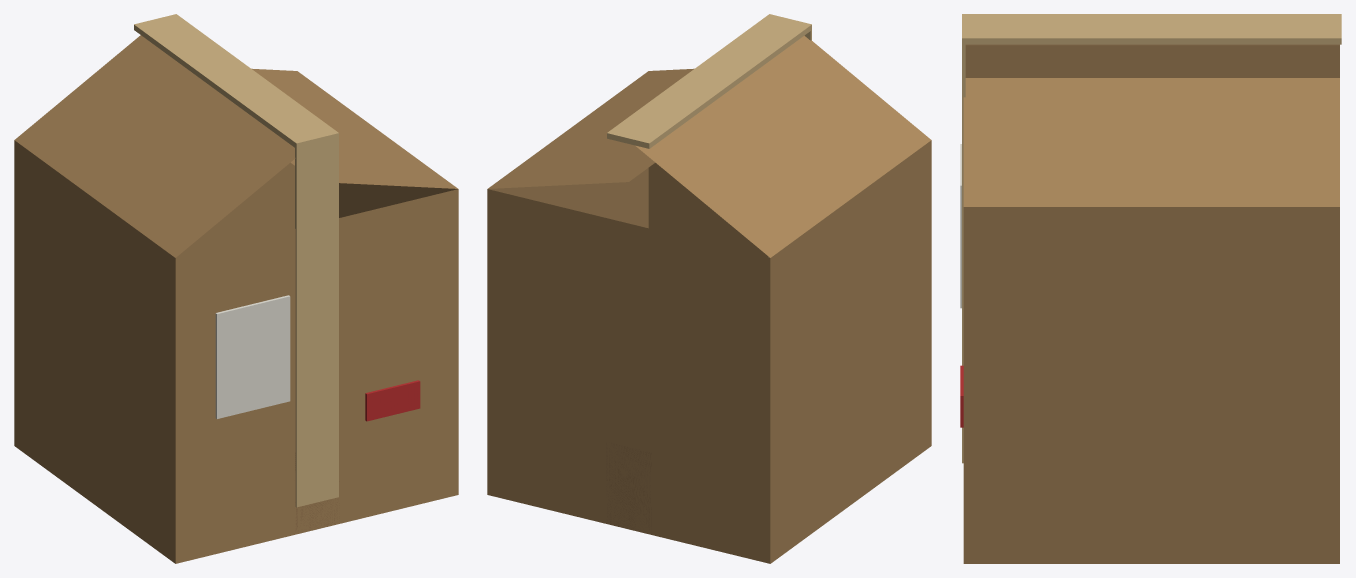
The model's file is cardboardBoxClosed.glb.
3 renders of one model, left to right at view 1: azimuth 30°, elevation 25°; view 2: azimuth 150°, elevation 25°; view 3: azimuth 270°, elevation 25°, orthographic. The views are drawn at different scales.
Visible parts, largest first — view 1: cardboardBoxClosed(Clone); view 2: cardboardBoxClosed(Clone); view 3: cardboardBoxClosed(Clone).
Boxes of the visible parts, <box> form: cardboardBoxClosed(Clone): <box>14,14,458,563</box>; cardboardBoxClosed(Clone): <box>487,14,931,563</box>; cardboardBoxClosed(Clone): <box>960,14,1341,563</box>.
Bounding box in the file's own units: 0.2125 × 0.281 × 0.2125.
